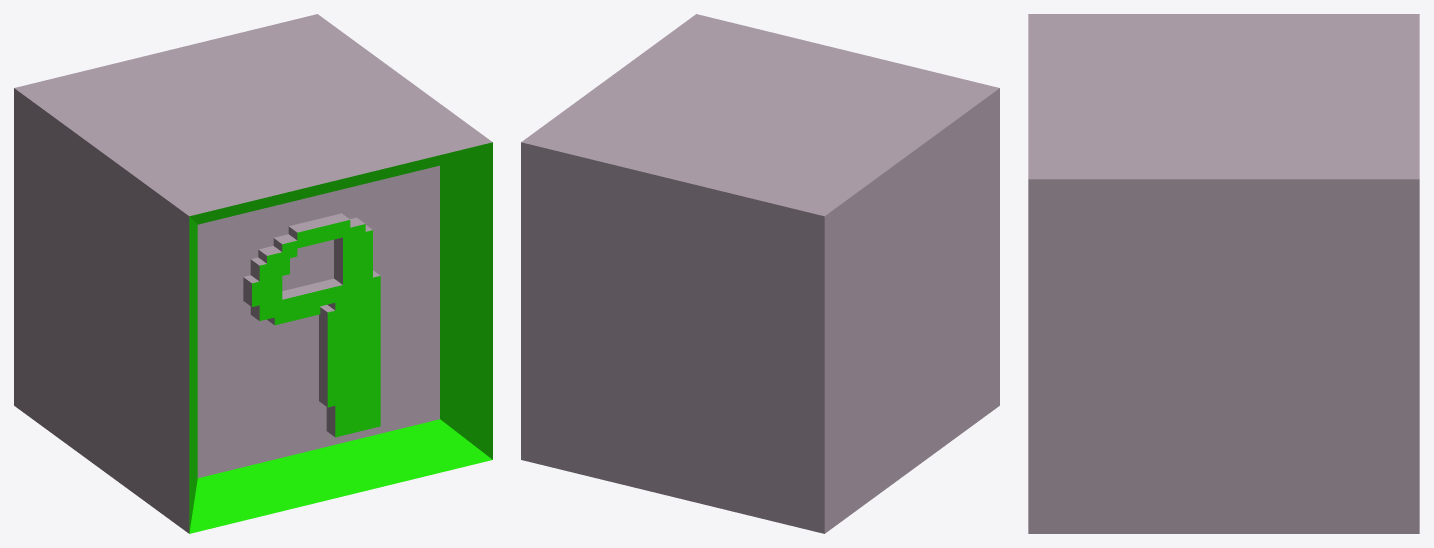
The model's file is Block9.fbx.
3 renders of one model, left to right at view 1: azimuth 30°, elevation 25°; view 2: azimuth 150°, elevation 25°; view 3: azimuth 270°, elevation 25°, orthographic. The views are drawn at different scales.
Visible parts, largest first — view 1: Cube; view 2: Cube; view 3: Cube.
Boxes of the visible parts, x1=… form: Cube: x1=14, y1=14, x2=492, y2=533; Cube: x1=521, y1=14, x2=999, y2=533; Cube: x1=1028, y1=14, x2=1419, y2=533.
Bounding box in the file's own units: 2000 × 2000 × 2000.
